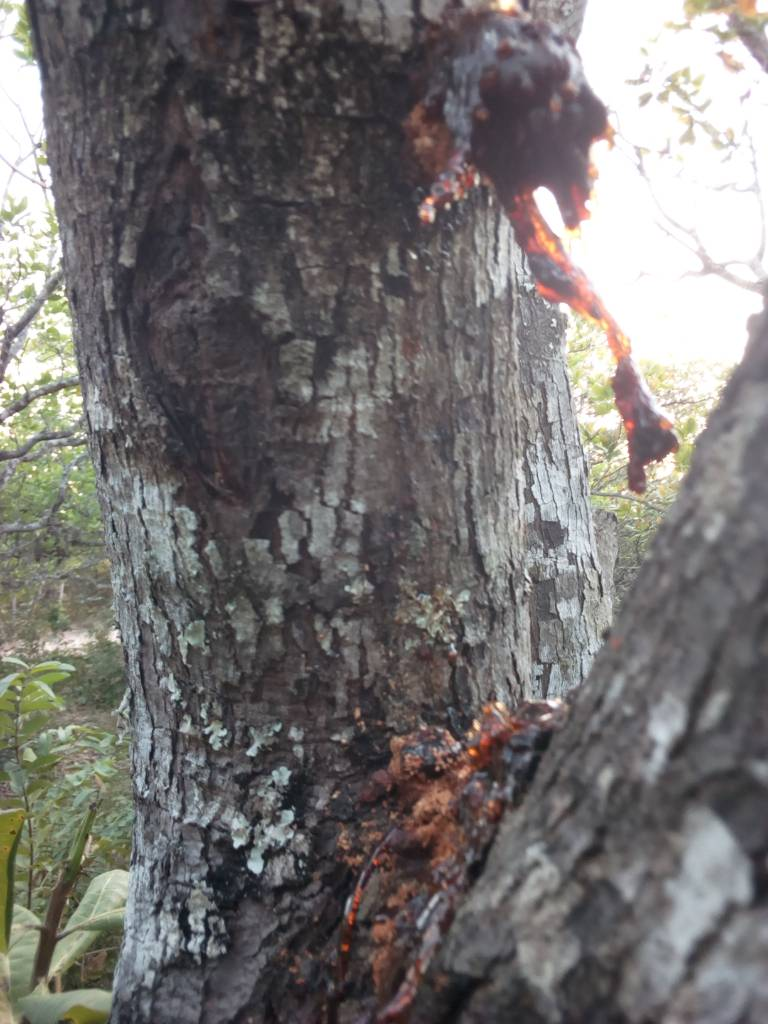Apate terebrans: (400, 49, 744, 508), (161, 708, 590, 978)
